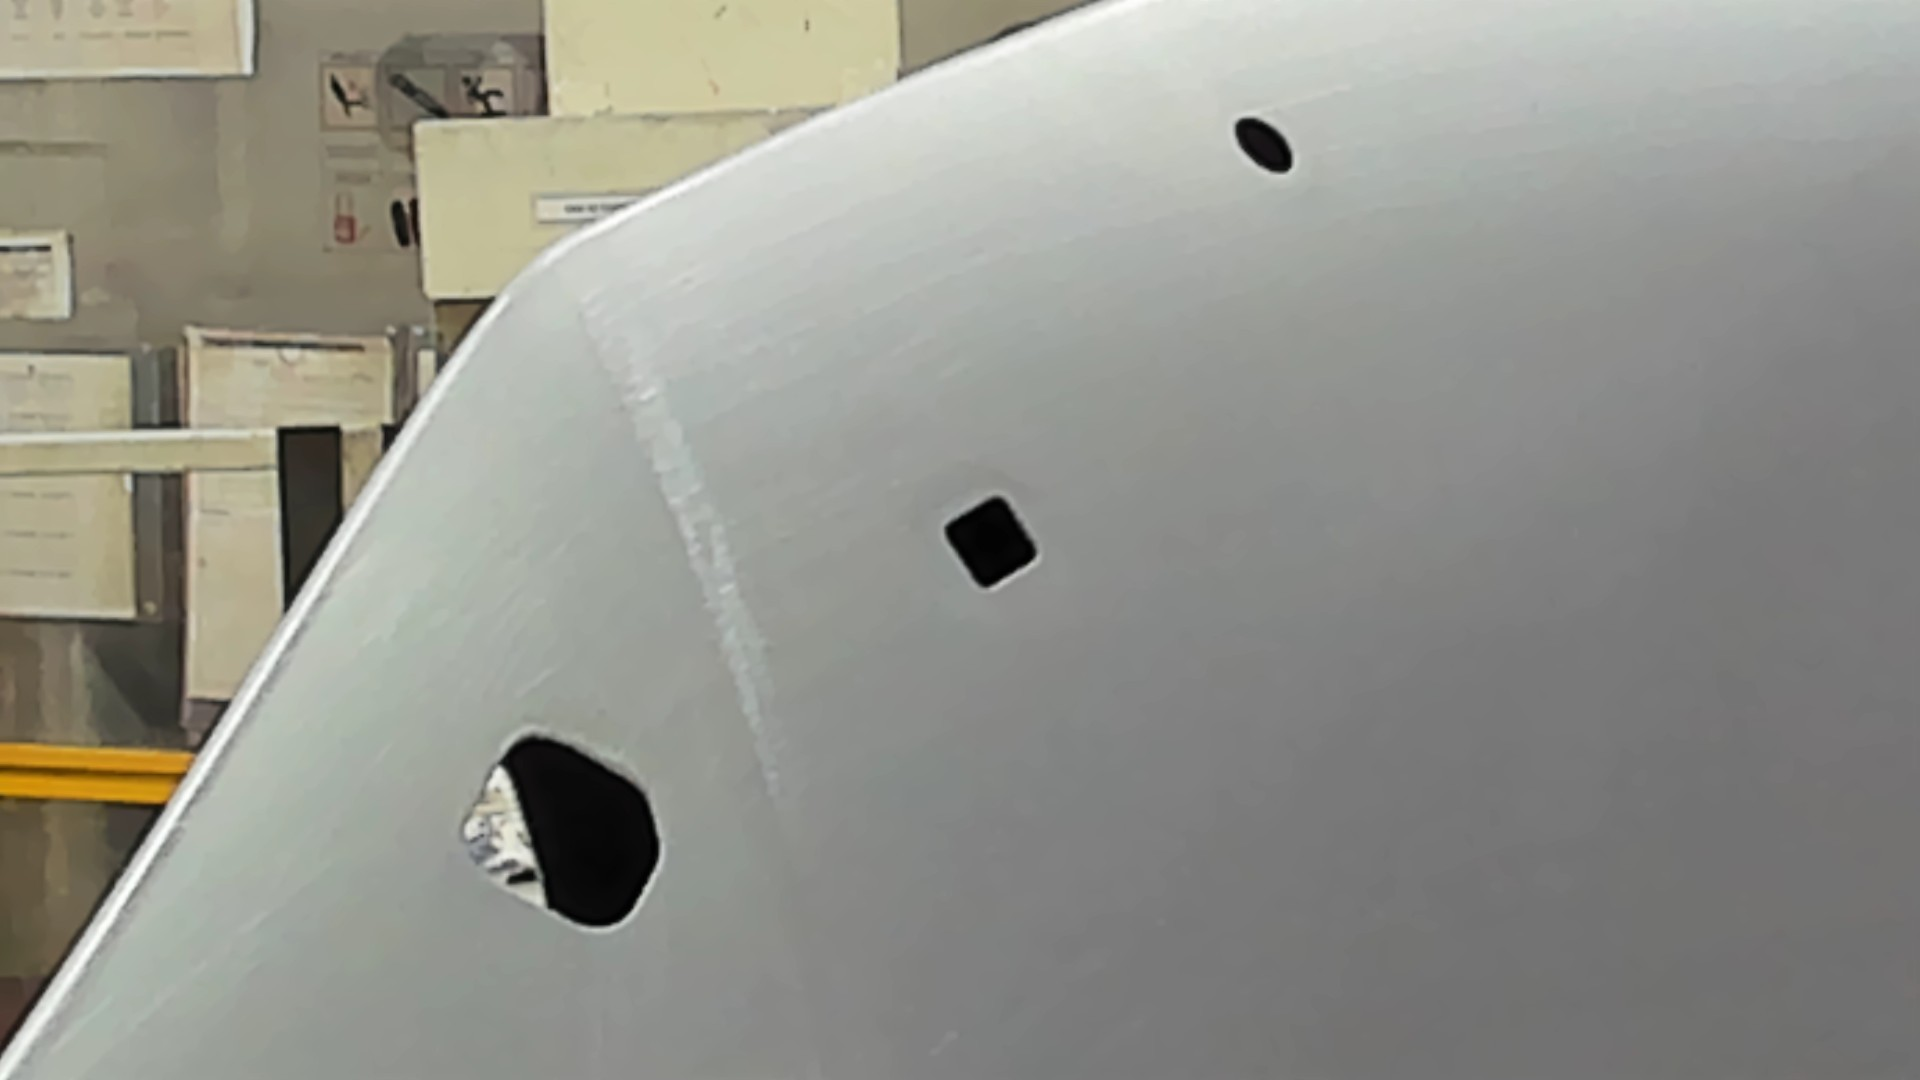chico: (1229, 113, 1300, 179)
grande: (451, 723, 666, 942)
mediano: (934, 485, 1046, 600)
